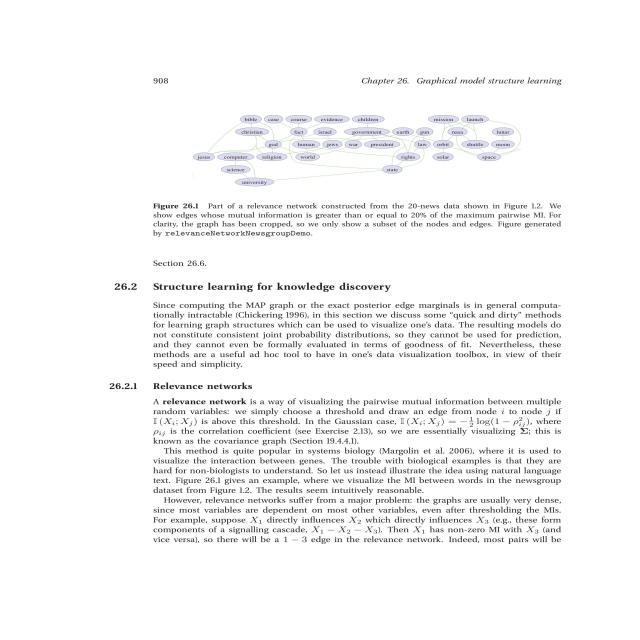diagram: (120, 88, 624, 236)
